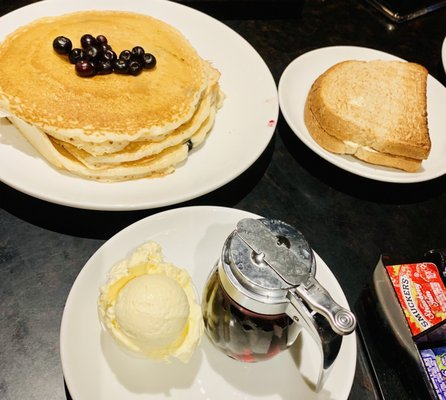salad: (220, 218, 356, 337)
soup: (305, 59, 431, 171)
